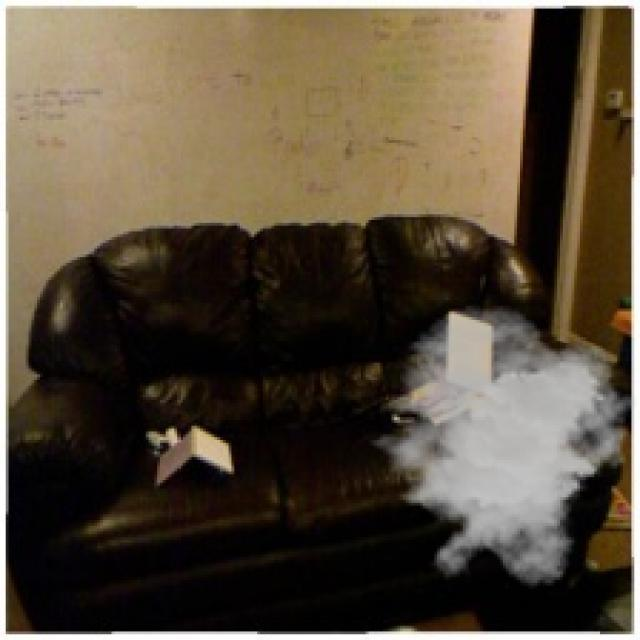Smoke: (357, 306, 637, 588)
